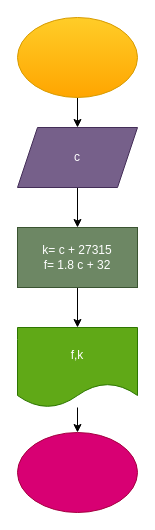
Image size: 155x530. Some labels were removed from this diagram. Each missing label, with the centre of its shape:
Fin: (77,472)
Inicio: (77,57)
